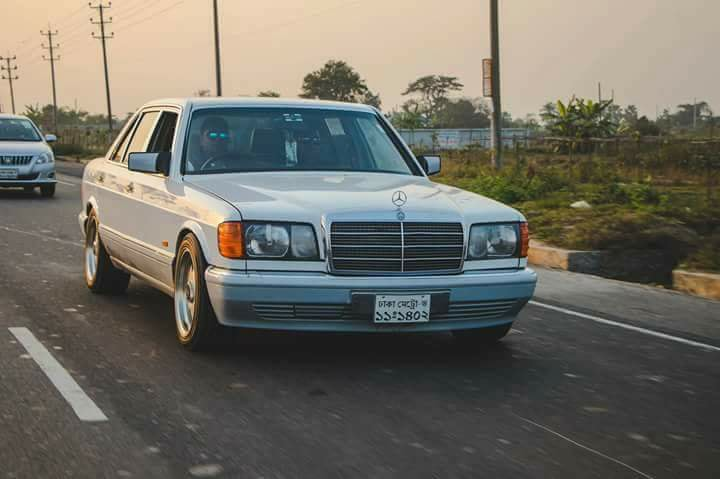registration_plate: (373, 293, 431, 322), (1, 169, 18, 179)
